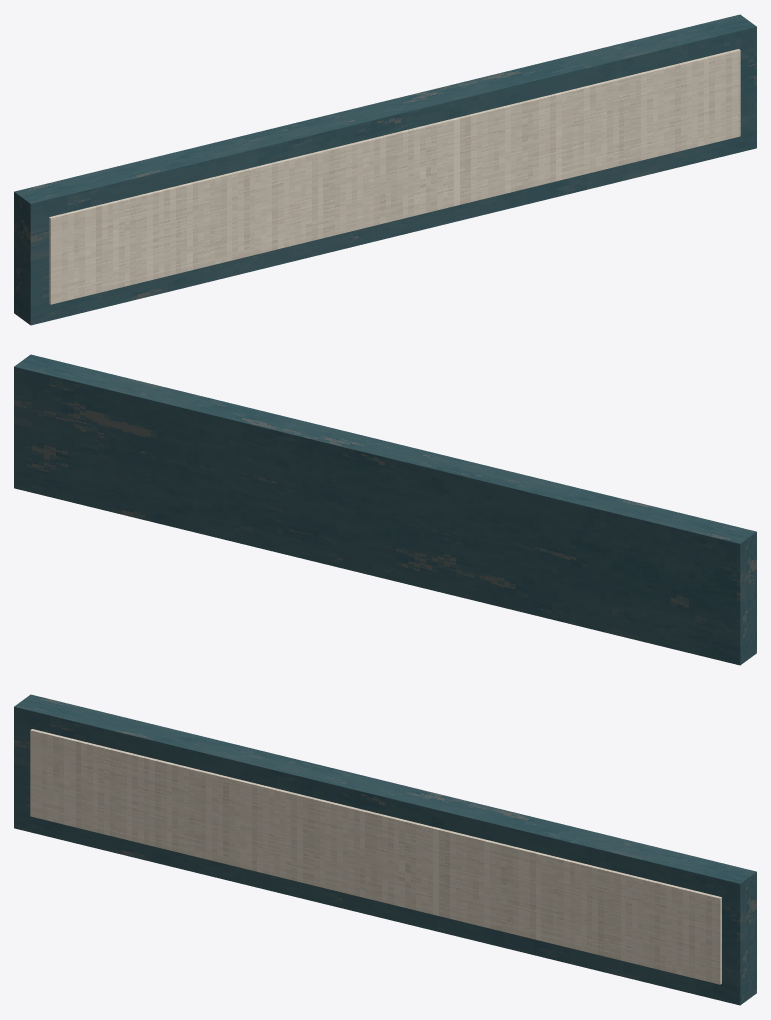
Rendered from city_sign_board.glb.
The picture shows the model from 3 angles, top to bottom: view 1: azimuth 30°, elevation 25°; view 2: azimuth 150°, elevation 25°; view 3: azimuth 330°, elevation 25°; orthographic projection.
Visible parts, largest first — view 1: root; view 2: root; view 3: root.
Boxes of the visible parts, x1,y1,x2,y2 form: root: [14, 14, 756, 325]; root: [14, 354, 756, 665]; root: [14, 694, 756, 1005].
Size of the model in its own units: 3 by 0.48 by 0.1335.
Materials: 1 (1 with a texture image).
